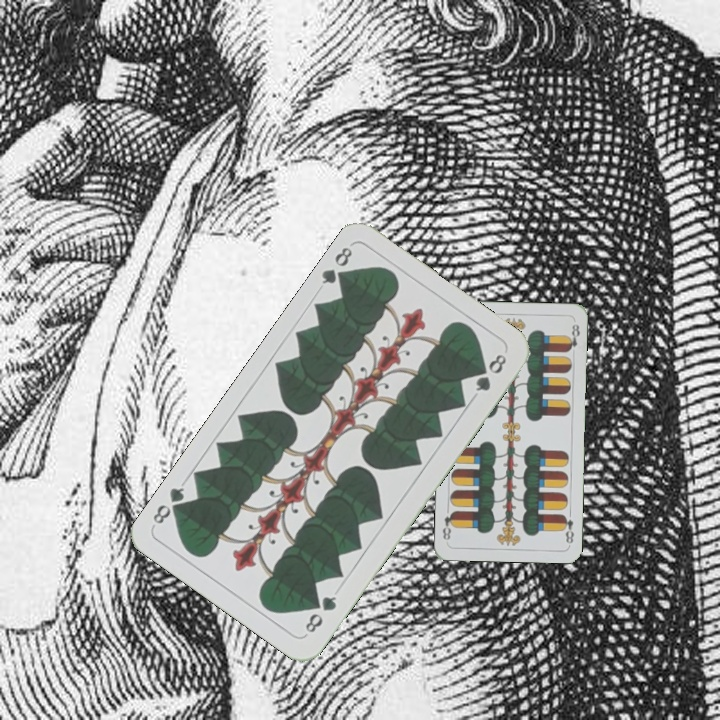E8: (558, 510, 576, 546)
G8: (317, 242, 355, 289), (301, 592, 339, 636)
